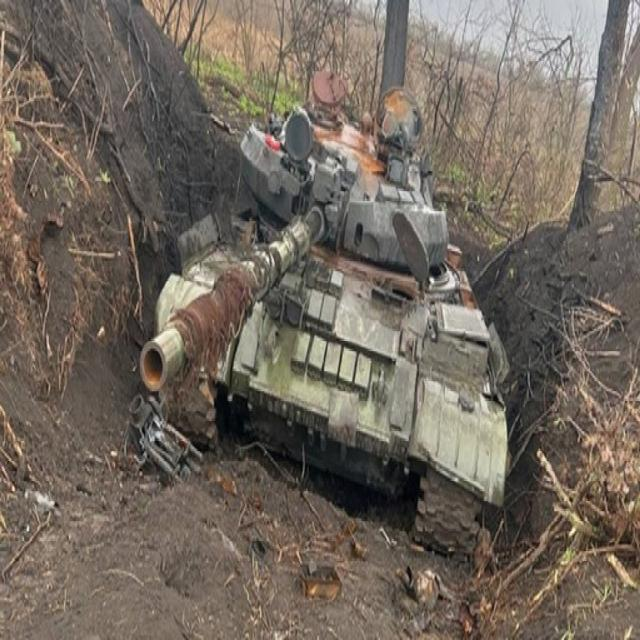TANK: (137, 80, 508, 584)
